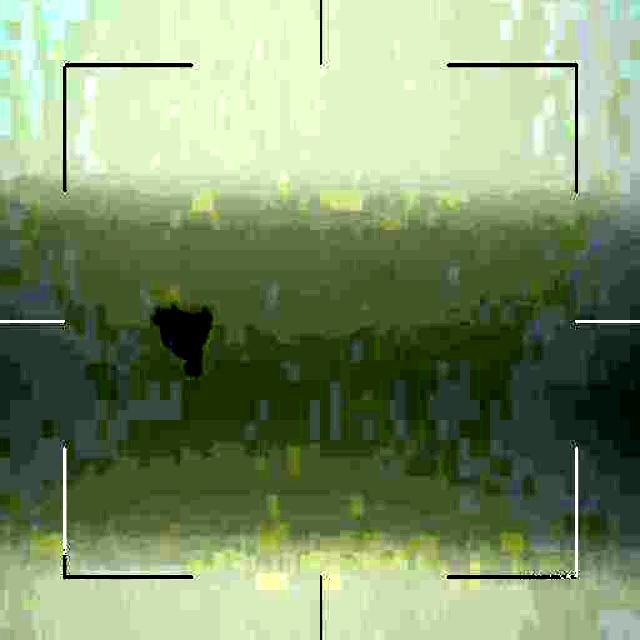bird: (156, 305, 222, 378)
